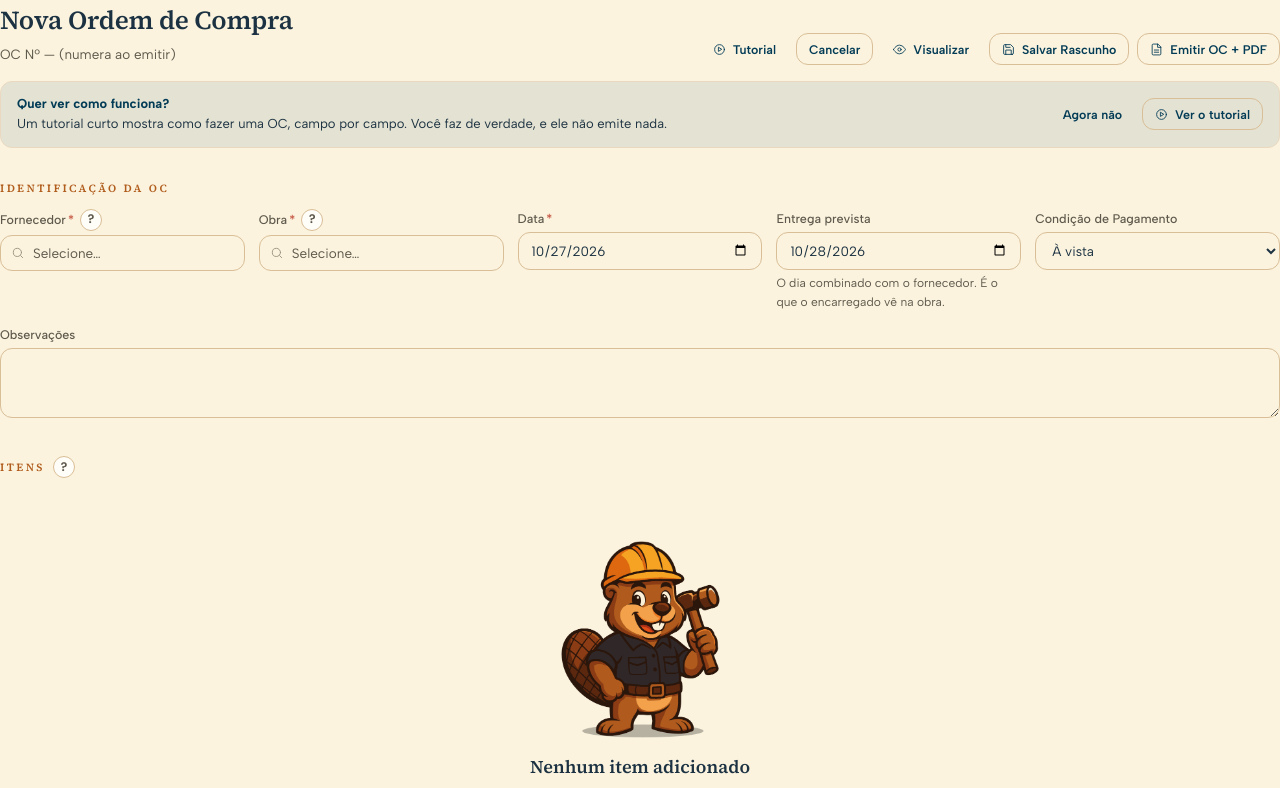
D763 — o tutorial, de ponta a ponta › voltar a um passo já feito mostra o passo, e não empurra para a frente
This screenshot has width=1280, height=788.
Click the button "Tutorial".
click(744, 49)  # box [701,33,788,65]
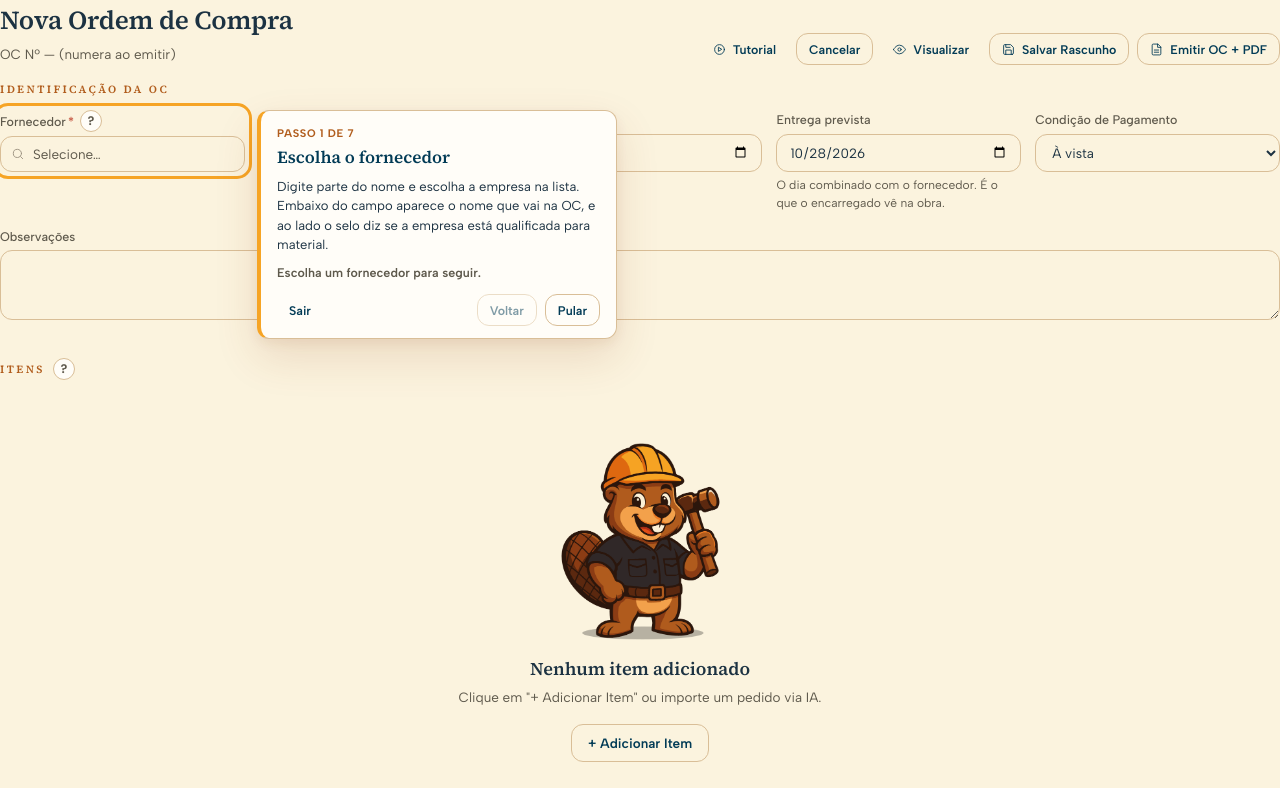
Click the dropdown labelled "Fornecedor*".
click(122, 154)  # box [0,136,245,172]
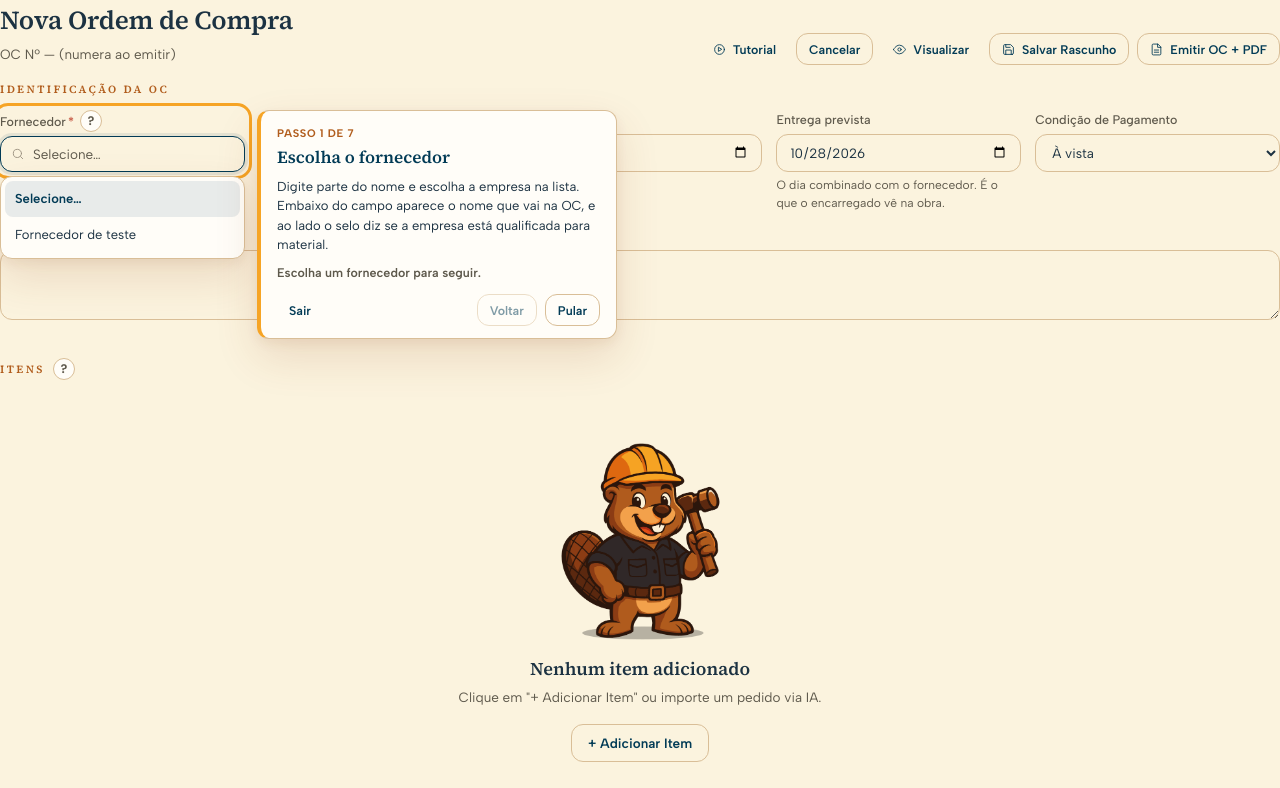
Click the option "Fornecedor de teste".
click(76, 235)  # box [15,227,136,242]
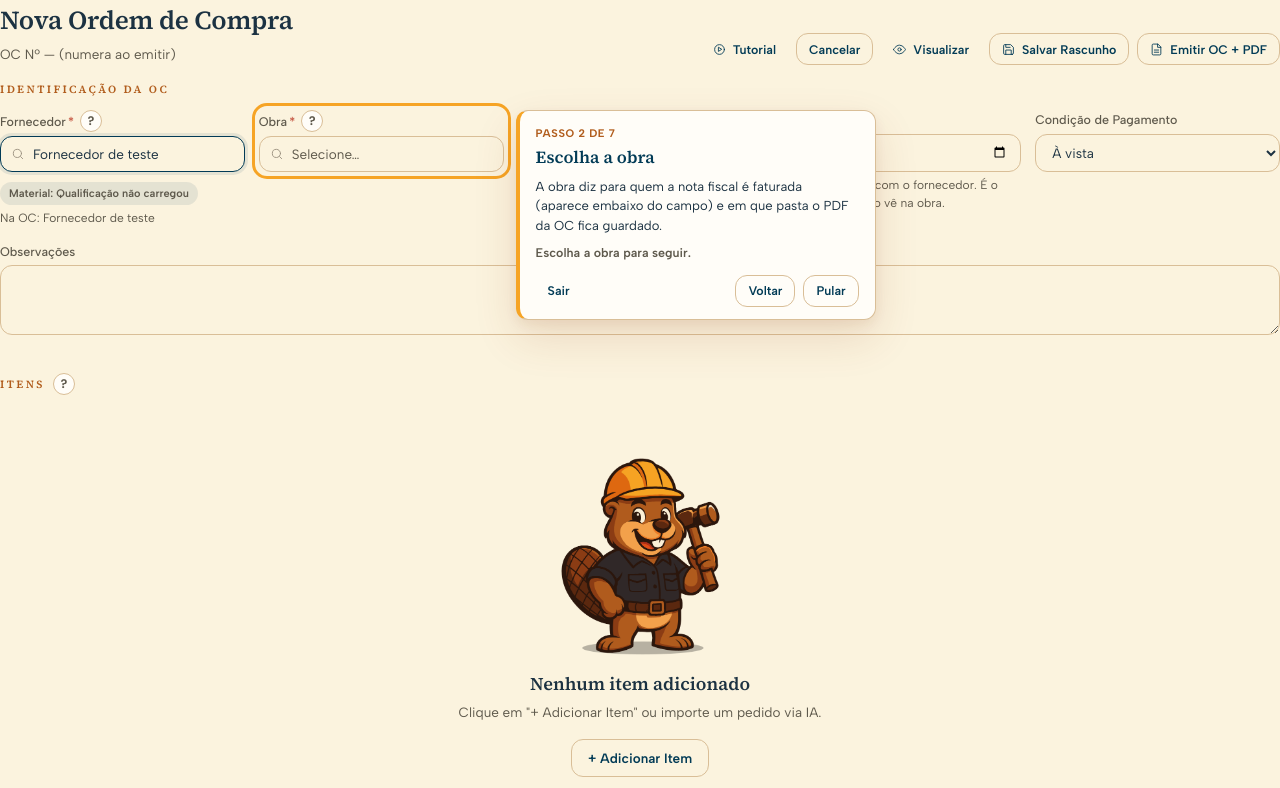
Click the button "Voltar".
click(766, 290)  # box [736,274,796,306]
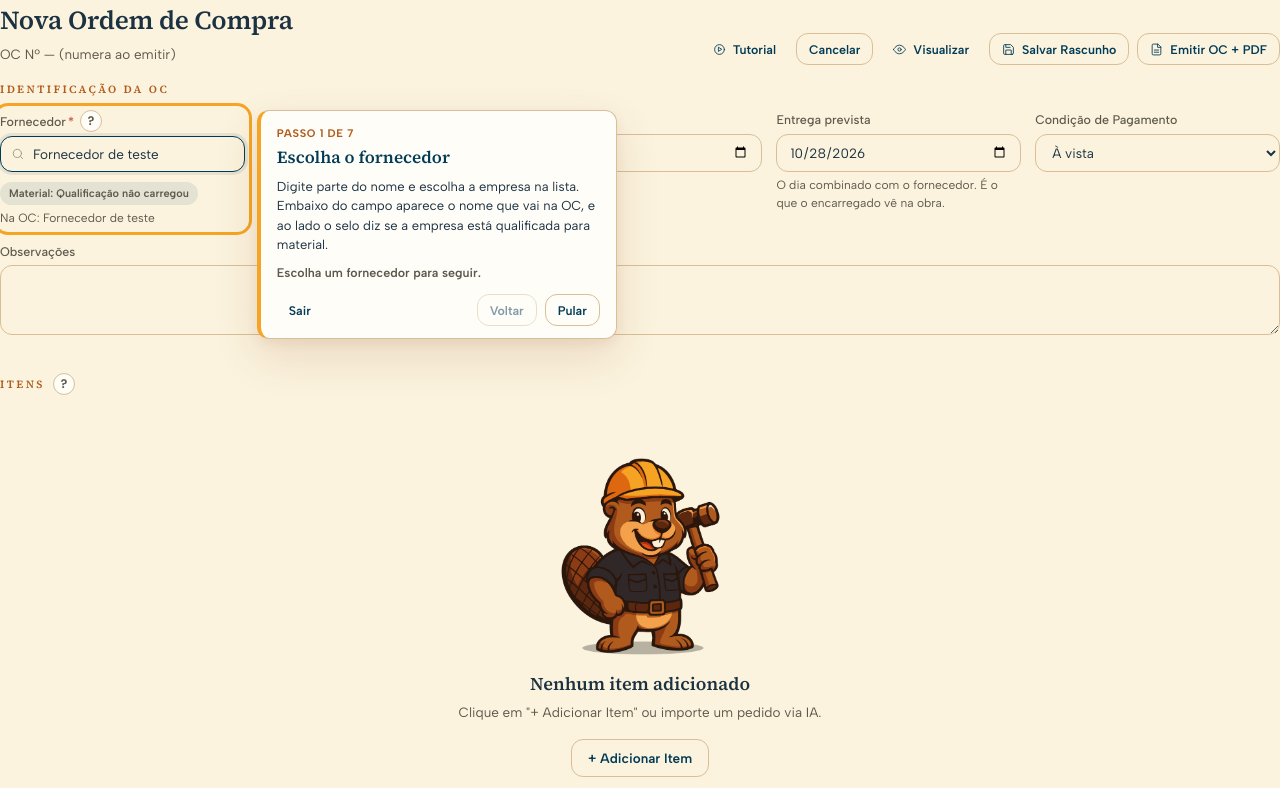
Expected: the dialog shows "Passo 1 de 7", [257,110,617,339]
